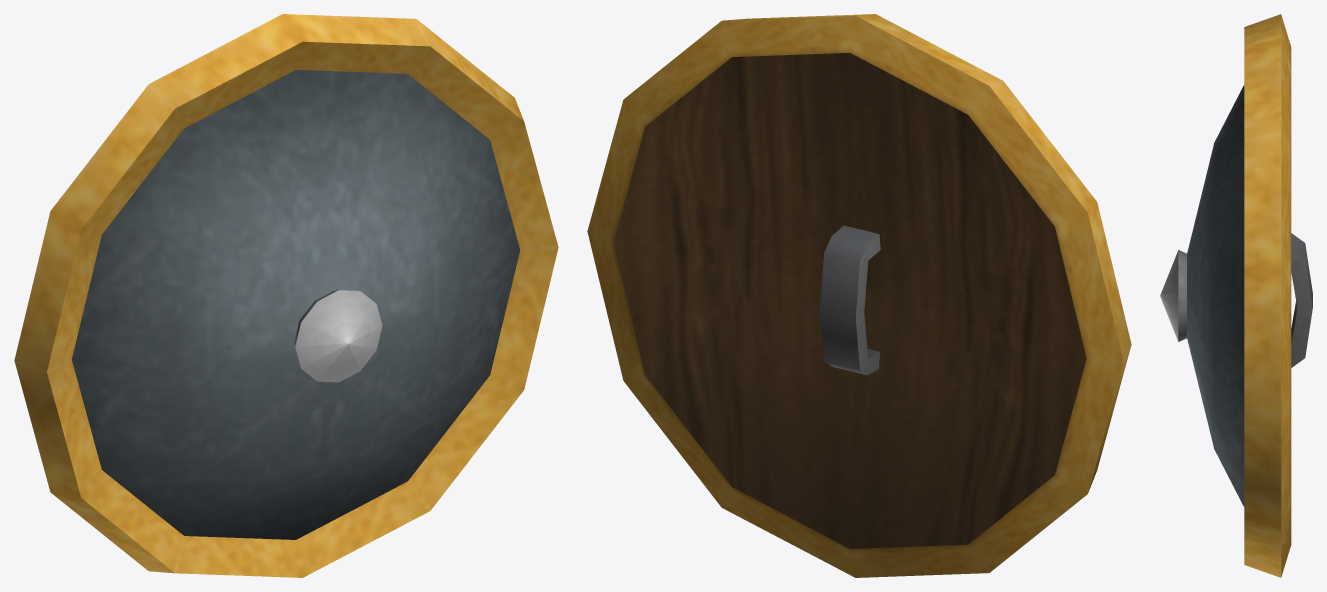
File: Shield_03.FBX
The picture shows the model from 3 angles, left to right: view 1: azimuth 30°, elevation 25°; view 2: azimuth 150°, elevation 25°; view 3: azimuth 270°, elevation 25°; orthographic projection. The views are drawn at different scales.
Parts seen in each view (by area): view 1: Shield_03; view 2: Shield_03; view 3: Shield_03.
Part boxes in pixels (<box>): Shield_03: <box>14,14,558,577</box>; Shield_03: <box>587,14,1131,577</box>; Shield_03: <box>1160,14,1312,577</box>.
Bounding box in the file's own units: 69.96 × 70.06 × 18.89.
